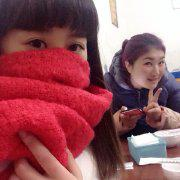NONE: (135, 56, 167, 86)
OK: (6, 20, 91, 100)
